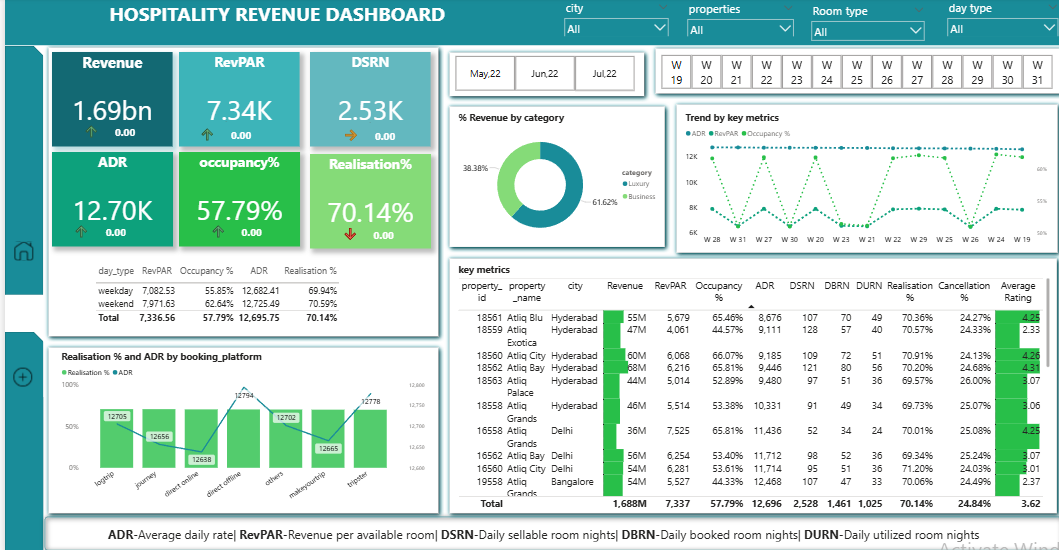

Layout of this report page (visuals, bound fields, positions):
{"tool":"powerbi","page":{"name":"Revenue-summary","canvas":[2360,1240],"ordinal":0},"visuals":[{"type":"shape","box":[975.2,108.4,457.2,121.6],"z":0},{"type":"shape","box":[1432.8,100.1,927.6,124.5],"z":1000},{"type":"shape","box":[0,0,2350.6,105],"z":2000},{"type":"shape","box":[85.4,97.6,890.9,666.4],"z":3000},{"type":"shape","box":[85.4,764,890.9,393],"z":4000},{"type":"shape","box":[1479.2,224.6,871.4,353.9],"z":5000},{"type":"textbox","box":[0,0,1198.5,85.4],"z":6000},{"type":"shape","box":[976.4,566.3,1374.3,590.7],"z":7000},{"type":"lineStackedColumnComboChart","fields":{"Category":["fact_bookings.booking_platform"],"Y":["key_measures.Realisation %"],"Y2":["key_measures.ADR"]},"box":[118.9,782.3,829.8,356.8],"z":8000},{"type":"lineChart","title":"Trend by key metrics","fields":{"Y":["key_measures.ADR","key_measures.RevPAR"],"Category":["dim_date.week no"],"Y2":["key_measures.Occupancy %"]},"box":[1506.1,251.4,822.6,305.1],"z":9000},{"type":"shape","box":[0,106.3,85,552.8],"z":10000},{"type":"shape","box":[0,742,85.4,498],"z":11000},{"type":"tableEx","title":"key metrics","fields":{"Values":["dim_hotels.property_id","dim_hotels.property_name","dim_hotels.city","key_measures.Revenue","key_measures.RevPAR","key_measures.Occupancy %","key_measures.ADR","key_measures.DSRN","key_measures.DBRN","key_measures.DURN","key_measures.Realisation %","key_measures.Cancellation %"]},"box":[1003.2,588.3,1325.4,551.7],"z":12000},{"type":"shape","box":[976.4,229.4,502.8,336.9],"z":13000},{"type":"donutChart","title":"% Revenue by category","fields":{"Category":["dim_hotels.category"],"Y":["key_measures.Revenue"]},"box":[1003.2,251.4,458.9,300.2],"z":14000},{"type":"tableEx","fields":{"Values":["key_measures.Revenue WoW change %"]},"box":[429.2,336.6,137.4,11.2],"z":15000},{"type":"tableEx","fields":{"Values":["dim_date.day_type","key_measures.RevPAR","key_measures.Occupancy %","key_measures.ADR","key_measures.Realisation %"]},"box":[183.1,583.4,725,158.7],"z":16000},{"type":"slicer","fields":{"Values":["dim_date.mmm yy"]},"box":[975.2,121.6,446.6,89.9],"z":17000},{"type":"slicer","fields":{"Values":["dim_date.week no"]},"box":[1449.9,119.6,890.9,85.4],"z":18000},{"type":"slicer","fields":{"Values":["dim_hotels.city"]},"box":[1232.7,0,251.4,85.4],"z":19000},{"type":"slicer","fields":{"Values":["dim_hotels.property_name"]},"box":[1506.1,2.4,256.3,83],"z":20000},{"type":"slicer","fields":{"Values":["dim_rooms.room_class"]},"box":[1781.9,7.3,270.9,92.8],"z":21000},{"type":"card","title":"Revenue","fields":{"Values":["key_measures.Revenue"]},"box":[105,119.6,268,210],"z":22000},{"type":"slicer","fields":{"Values":["dim_date.day_type"]},"box":[2084.6,0,266.1,85.4],"z":23000},{"type":"card","title":"RevPAR","fields":{"Values":["key_measures.RevPAR"]},"box":[385.7,119.6,268,210],"z":25000},{"type":"tableEx","fields":{"Values":["key_measures.Revpar WoW change %"]},"box":[423.6,256.4,142.7,100.3],"z":26000},{"type":"card","title":"DSRN","fields":{"Values":["key_measures.DSRN"]},"box":[678.6,119.6,268,210],"z":27000},{"type":"tableEx","fields":{"Values":["key_measures.DSRN WoW change %"]},"box":[744.5,258.7,202.6,83],"z":28000},{"type":"card","title":"ADR","fields":{"Values":["key_measures.ADR"]},"box":[105,341.7,268.5,209.9],"z":29000},{"type":"tableEx","fields":{"Values":["key_measures.ADR WoW change %"]},"box":[144,471.1,141.6,107.4],"z":30000},{"type":"card","title":"occupancy%","fields":{"Values":["key_measures.Occupancy %"]},"box":[385.7,341.7,268.5,209.9],"z":31000},{"type":"tableEx","fields":{"Values":["key_measures.Occupancy WoW change %"]},"box":[449.1,471.1,141.6,117.2],"z":32000},{"type":"card","title":"Realisation%","fields":{"Values":["key_measures.Realisation %"]},"box":[678.6,346.6,268.5,209.9],"z":33000},{"type":"tableEx","fields":{"Values":["key_measures.Realisation WoW change %"]},"box":[742,478.4,141.6,100.1],"z":34000},{"type":"shape","box":[75.7,1139.9,2284.7,100.1],"z":35000},{"type":"textbox","box":[41.5,1169.2,2318.9,43.9],"z":36000},{"type":"actionButton","box":[9.4,484.3,66.1,155.9],"z":37000},{"type":"actionButton","box":[7.3,764,65.9,156.2],"z":38000},{"type":"tableEx","fields":{"Values":["key_measures.Revpar WoW change %"]},"box":[166.5,248.4,142.7,100.4],"z":38001}]}

Visuals, with their boxes in screenshot pixels (x1, y1, x2, y2), scaled from the page's 2360x1240 canvas onto the 1059x550 screenshot:
shape: bbox(438, 48, 643, 102)
shape: bbox(643, 44, 1058, 100)
shape: bbox(0, 0, 1055, 47)
shape: bbox(38, 43, 438, 339)
shape: bbox(38, 339, 438, 513)
shape: bbox(664, 100, 1055, 257)
textbox: bbox(0, 0, 538, 38)
shape: bbox(438, 251, 1055, 513)
lineStackedColumnComboChart - fact_bookings.booking_platform x key_measures.Realisation %: bbox(53, 347, 426, 505)
"Trend by key metrics" lineChart: bbox(676, 112, 1045, 247)
shape: bbox(0, 47, 38, 292)
shape: bbox(0, 329, 38, 549)
"key metrics" tableEx: bbox(450, 261, 1045, 506)
shape: bbox(438, 102, 664, 251)
"% Revenue by category" donutChart: bbox(450, 112, 656, 245)
tableEx - key_measures.Revenue WoW change %: bbox(193, 149, 254, 154)
tableEx - dim_date.day_type x key_measures.RevPAR: bbox(82, 259, 407, 329)
slicer - dim_date.mmm yy: bbox(438, 54, 638, 94)
slicer - dim_date.week no: bbox(651, 53, 1050, 91)
slicer - dim_hotels.city: bbox(553, 0, 666, 38)
slicer - dim_hotels.property_name: bbox(676, 1, 791, 38)
slicer - dim_rooms.room_class: bbox(800, 3, 921, 44)
"Revenue" card: bbox(47, 53, 167, 146)
slicer - dim_date.day_type: bbox(935, 0, 1055, 38)
"RevPAR" card: bbox(173, 53, 293, 146)
tableEx - key_measures.Revpar WoW change %: bbox(190, 114, 254, 158)
"DSRN" card: bbox(305, 53, 425, 146)
tableEx - key_measures.DSRN WoW change %: bbox(334, 115, 425, 152)
"ADR" card: bbox(47, 152, 168, 245)
tableEx - key_measures.ADR WoW change %: bbox(65, 209, 128, 257)
"occupancy%" card: bbox(173, 152, 294, 245)
tableEx - key_measures.Occupancy WoW change %: bbox(202, 209, 265, 261)
"Realisation%" card: bbox(305, 154, 425, 247)
tableEx - key_measures.Realisation WoW change %: bbox(333, 212, 396, 257)
shape: bbox(34, 506, 1058, 549)
textbox: bbox(19, 519, 1058, 538)
actionButton: bbox(4, 215, 34, 284)
actionButton: bbox(3, 339, 33, 408)
tableEx - key_measures.Revpar WoW change %: bbox(75, 110, 139, 155)
